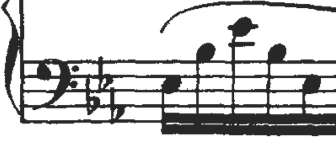bass_clef: (33, 47, 83, 113)
flat: (80, 73, 103, 124), (106, 85, 127, 133), (94, 52, 117, 93)
